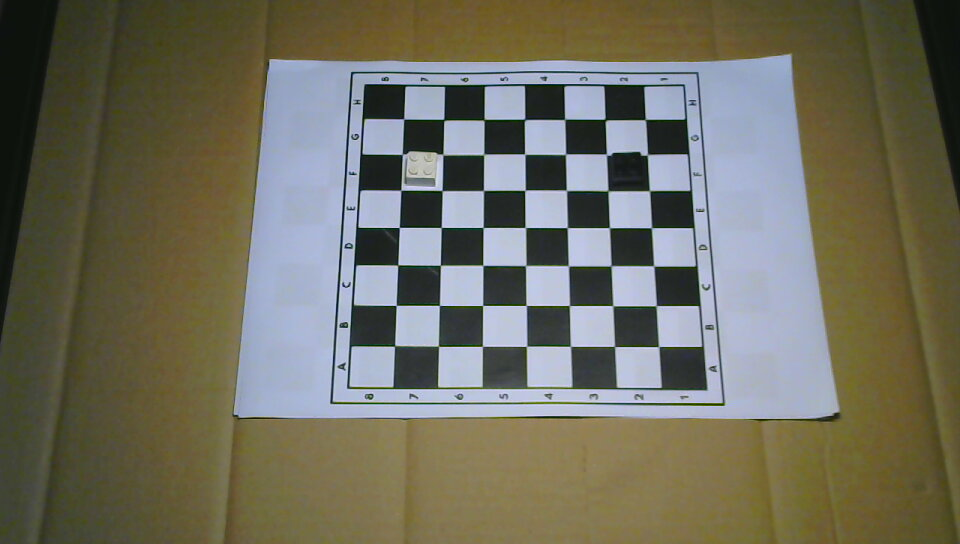bp: (609, 151, 643, 186)
wp: (404, 150, 437, 187)
